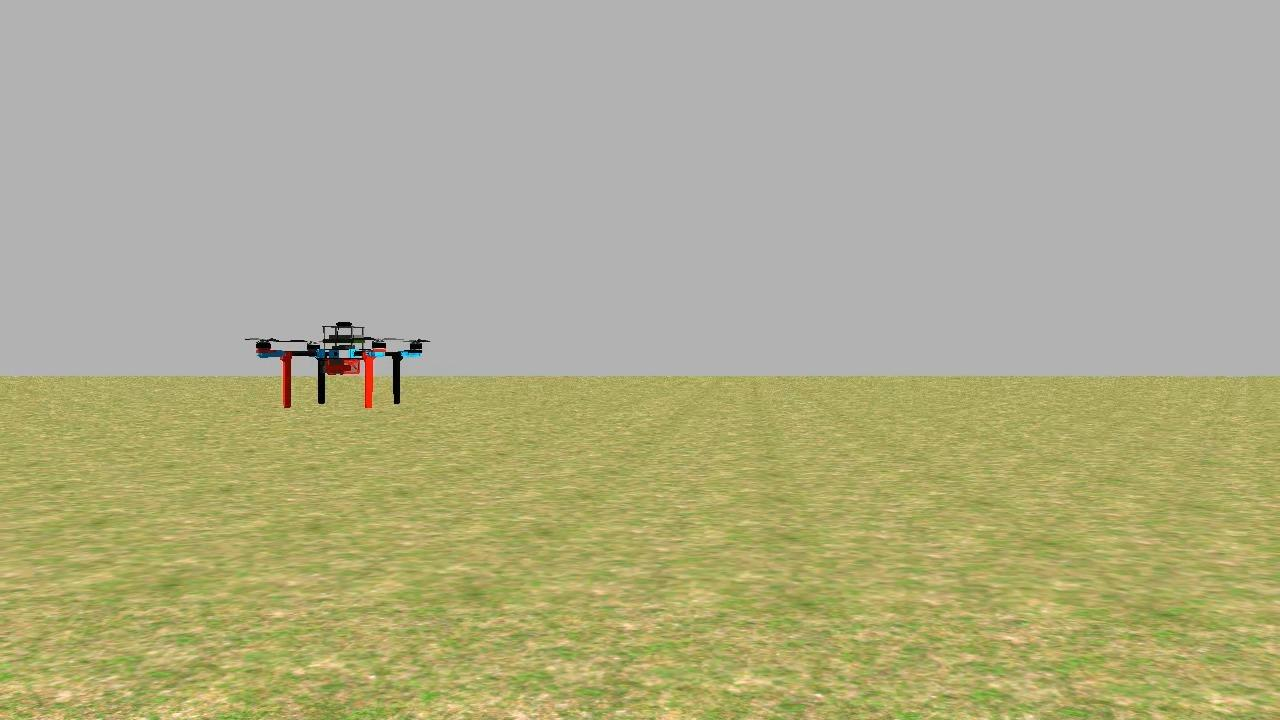UAV: (245, 303, 435, 418)
